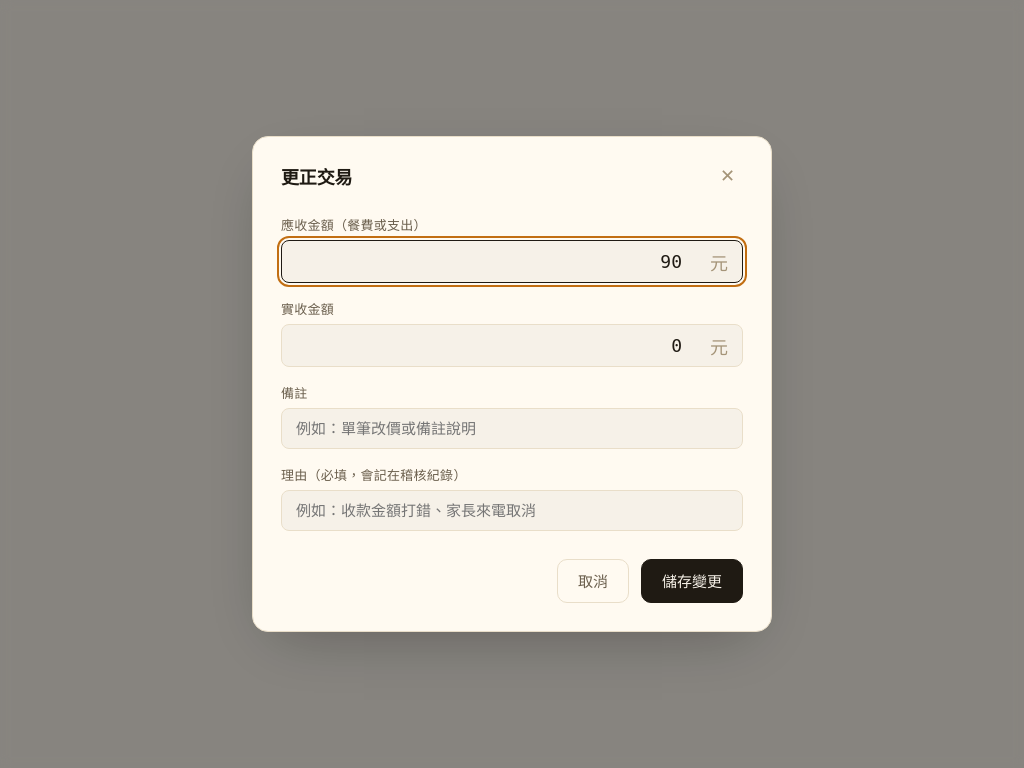
Test case: EditTransactionModal › M2：儲存失敗（缺理由、已關帳）時視窗不關，顯示原因
Click the button "儲存變更" at [692, 581], box [641,559,743,603]
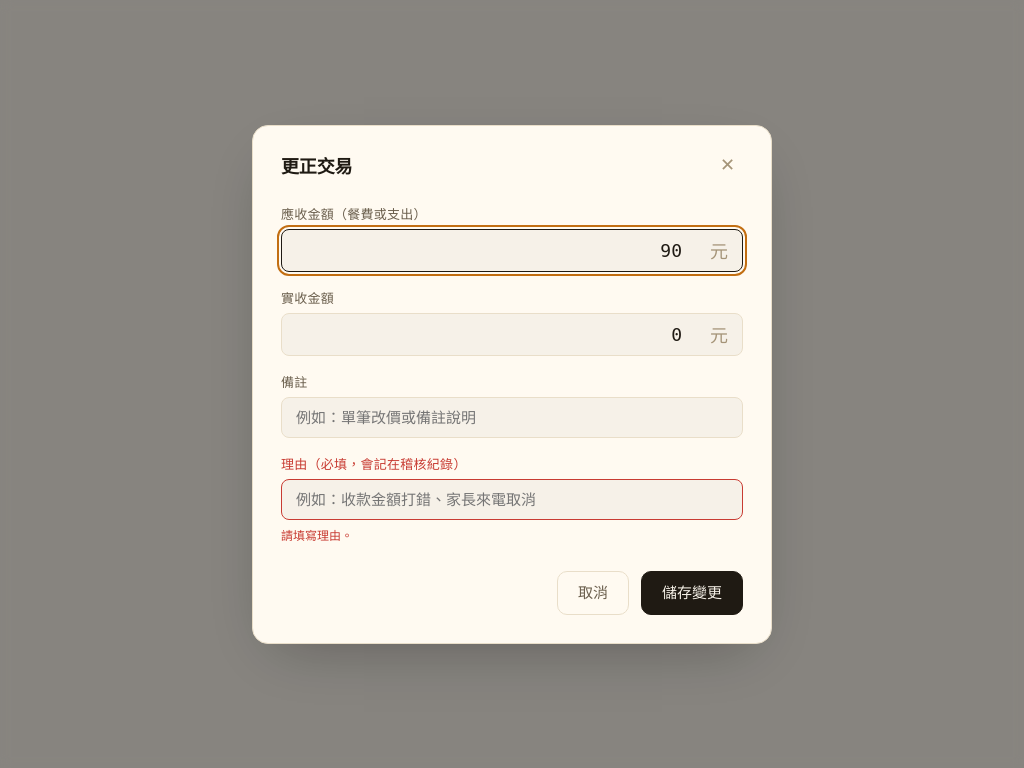
Result: the message reads "請填寫理由。" at [281,528,353,542]
